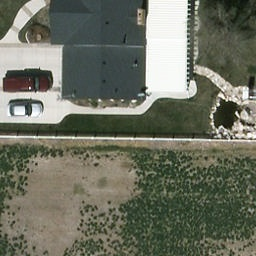car: (7, 103, 42, 117)
pickup: (1, 76, 52, 96)
